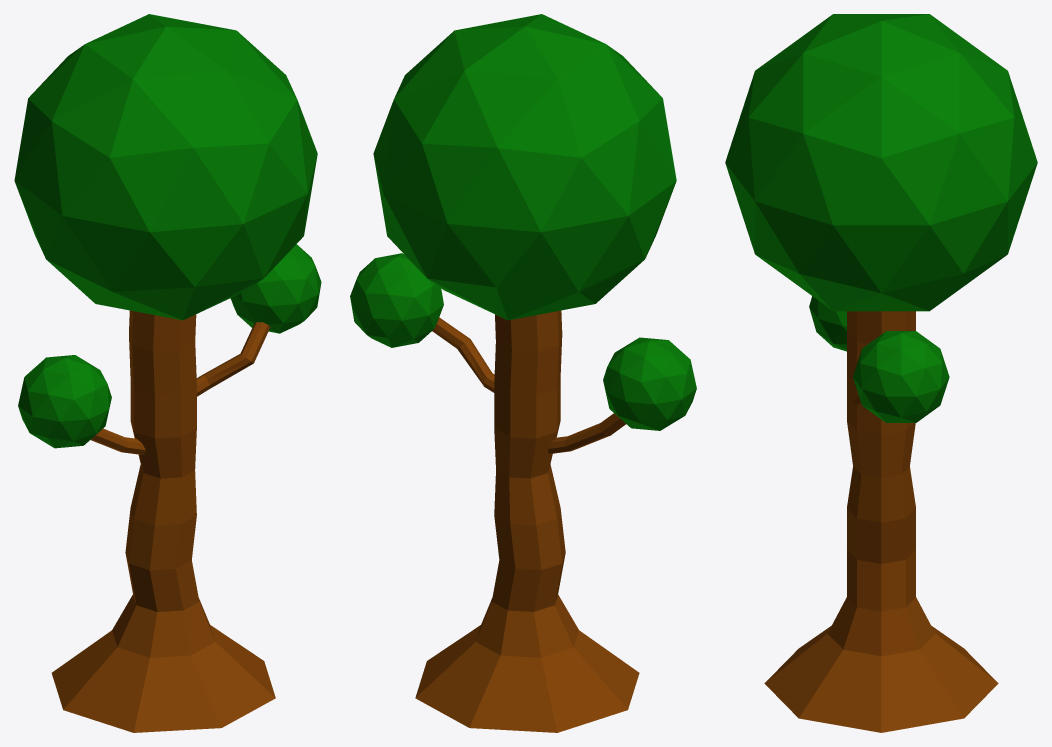
File: LP_tree.fbx
3 renders of one model, left to right at view 1: azimuth 30°, elevation 25°; view 2: azimuth 150°, elevation 25°; view 3: azimuth 270°, elevation 25°, orthographic.
Parts seen in each view (by area): view 1: Tree; view 2: Tree; view 3: Tree.
Boxes of the visible parts, <box> form: Tree: <box>14,14,321,732</box>; Tree: <box>350,14,696,732</box>; Tree: <box>725,14,1037,732</box>.
Bounding box in the file's own units: 401 × 813 × 347.
